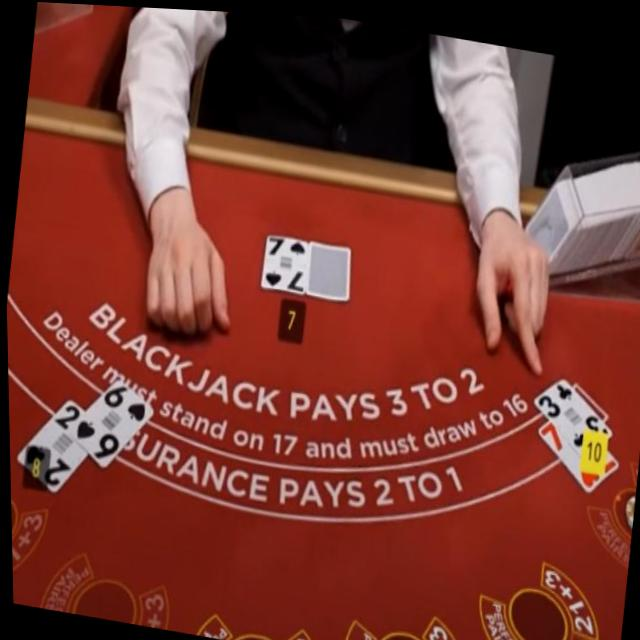Card-2: (14, 394, 85, 493)
Card-3: (531, 369, 611, 453)
Card-6: (65, 377, 152, 467)
Card-7: (535, 416, 616, 489), (259, 227, 307, 290)
